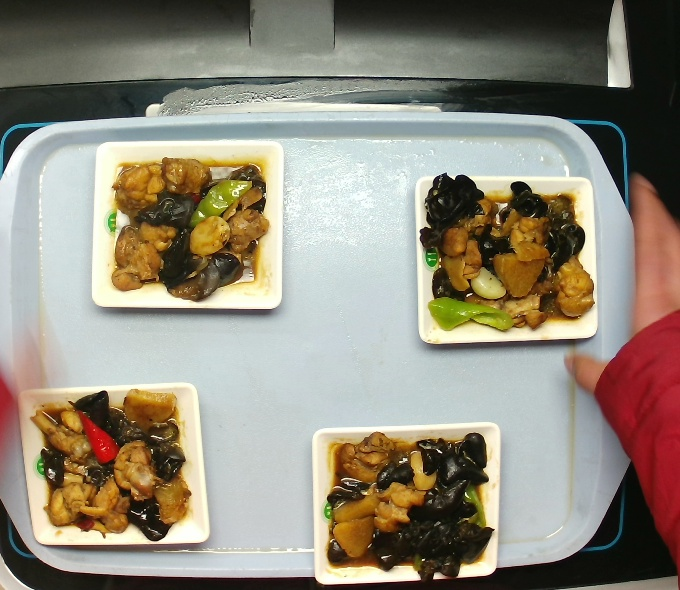wcq-MuErJiRou: (103, 144, 276, 299), (423, 167, 587, 330), (330, 424, 485, 581), (29, 388, 191, 535)
